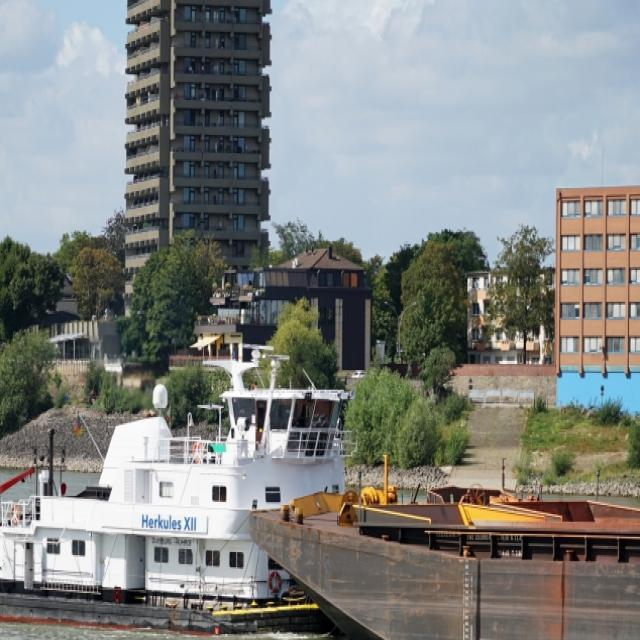tugboat: (1, 340, 417, 640)
